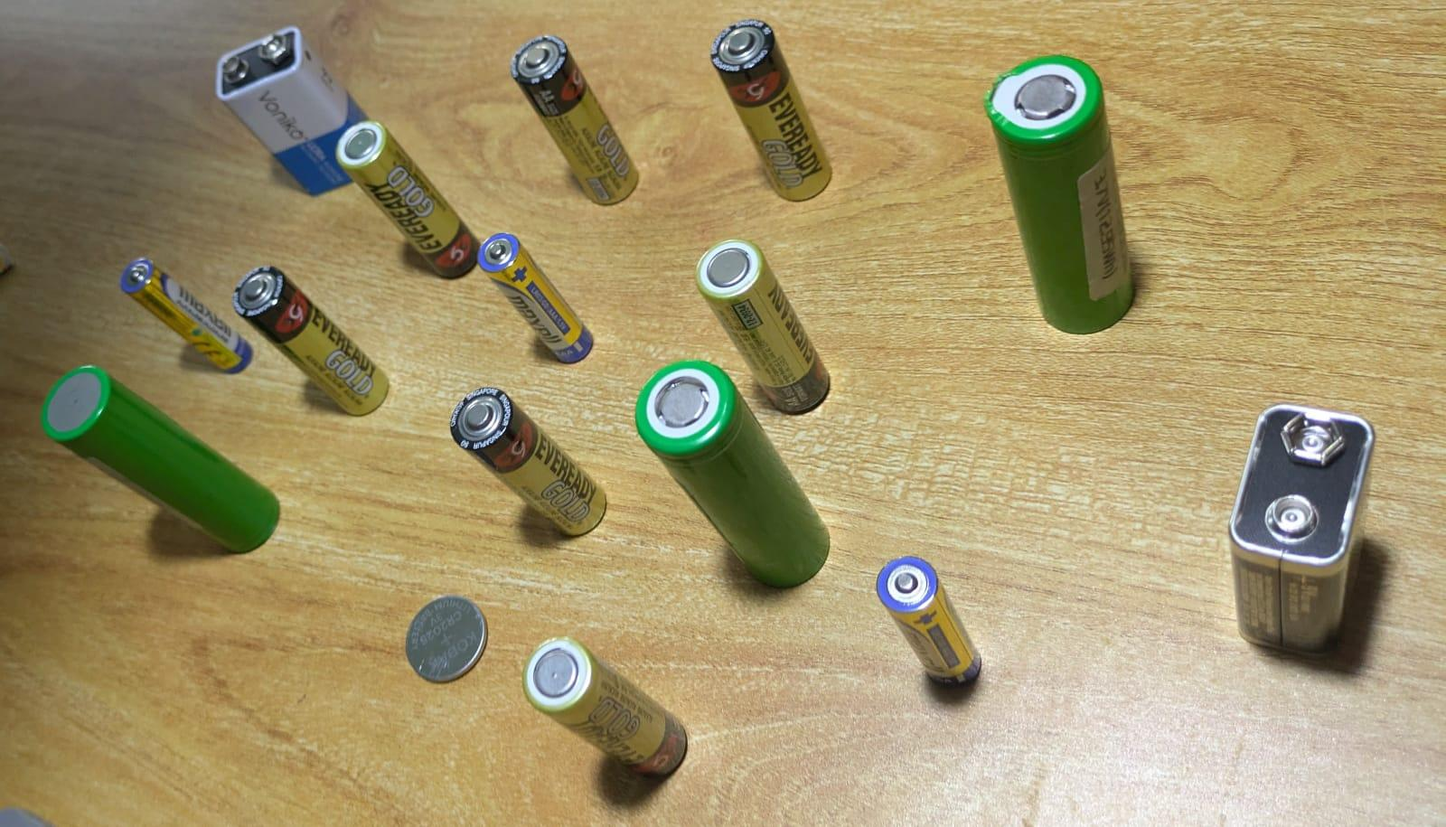9V: (1223, 397, 1379, 658), (213, 24, 370, 196)
AA: (449, 386, 607, 542), (231, 263, 390, 417), (333, 117, 481, 280), (696, 235, 828, 417), (706, 17, 829, 202), (509, 31, 638, 206)
AAA: (523, 633, 684, 779), (118, 256, 254, 376), (473, 228, 591, 365), (878, 556, 979, 685)
COIN: (403, 593, 489, 684)
